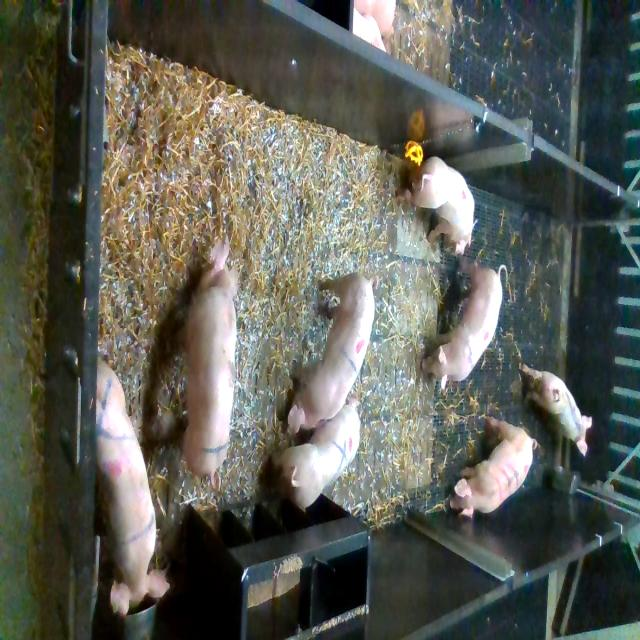pig: (96, 356, 170, 615), (179, 234, 245, 492), (287, 273, 379, 434), (422, 262, 508, 389), (271, 393, 361, 506), (450, 416, 537, 519), (396, 157, 474, 254), (519, 363, 592, 457)
